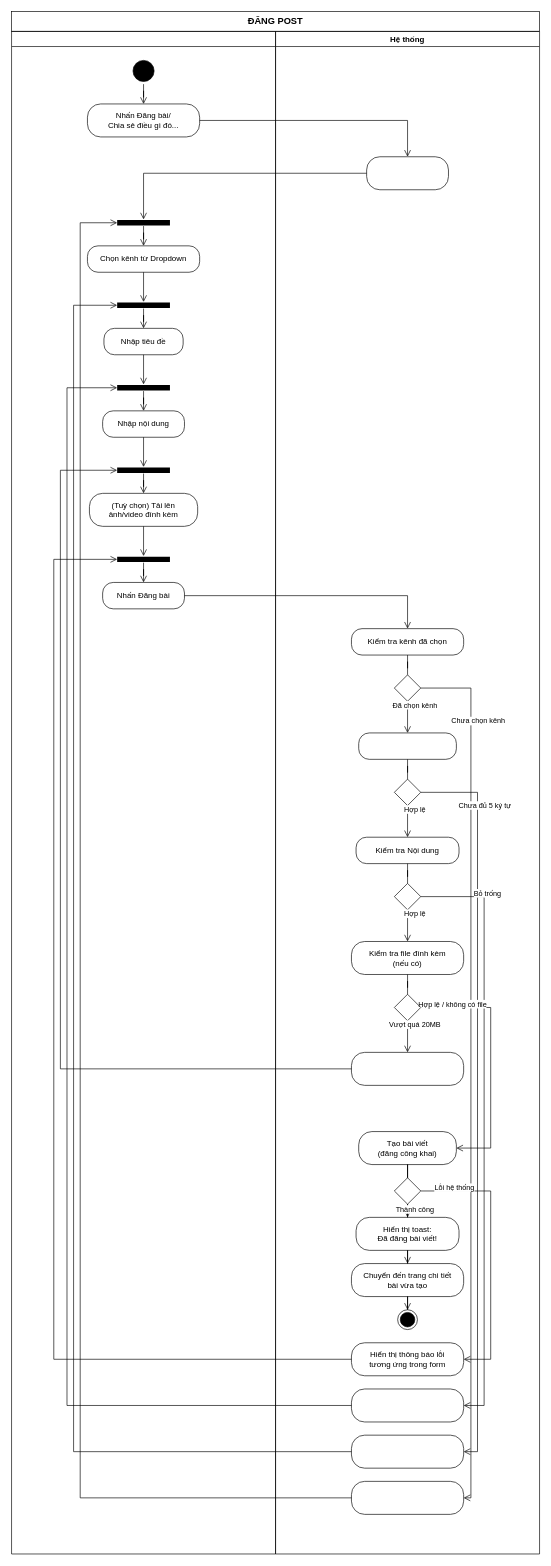
Image size: 551x1566. Some labels were removed from this diagram. Each missing label, with the box of its shape:
Hiển thị lỗi: Tiêu đề cần tối thiểu 5 ký tự: (351, 1435, 464, 1468)
Hiển thị lỗi: Vui lòng chọn kênh đăng bài: (351, 1481, 464, 1514)
Hiển thị lỗi: Vui lòng nhập nội dung bài viết: (351, 1388, 464, 1422)
Hiển thị toast lỗi: Tệp tải lên tối đa 20MB: (351, 1052, 464, 1085)
Kiểm tra Tiêu đề: (358, 732, 456, 759)
Mở màn hình Đăng bài viết: (366, 156, 448, 190)
Thành viên: (11, 31, 276, 1554)
